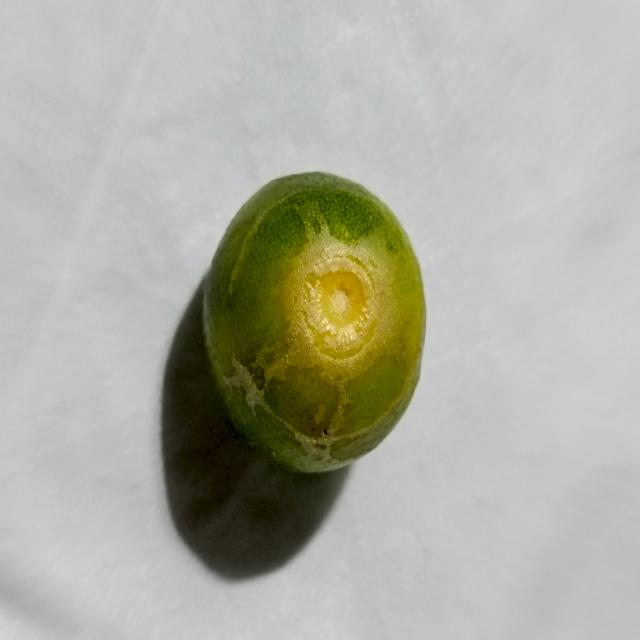thrips: (198, 161, 426, 475)
